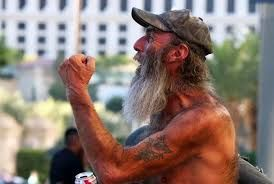no-mask: (127, 21, 205, 95)
